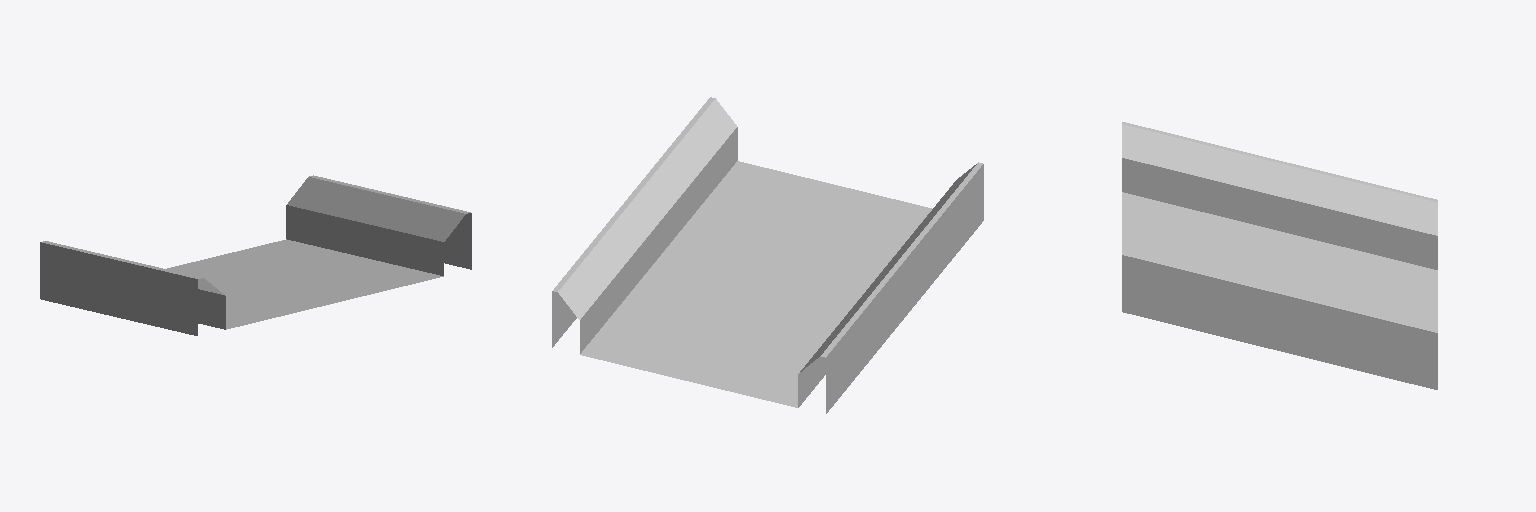
File: trackpiece2.obj
The picture shows the model from 3 angles: view 1: azimuth 30°, elevation 25°; view 2: azimuth 150°, elevation 25°; view 3: azimuth 270°, elevation 25°; orthographic projection.
Parts seen in each view (by area): view 1: Plane.008_Plane.002; view 2: Plane.008_Plane.002; view 3: Plane.008_Plane.002.
Boxes of the visible parts, box(x1,y1,x2,y2) form: Plane.008_Plane.002: box(40, 175, 471, 335); Plane.008_Plane.002: box(552, 97, 983, 413); Plane.008_Plane.002: box(1122, 122, 1437, 389).
Size of the model in its own units: 1 by 0.4739 by 1.